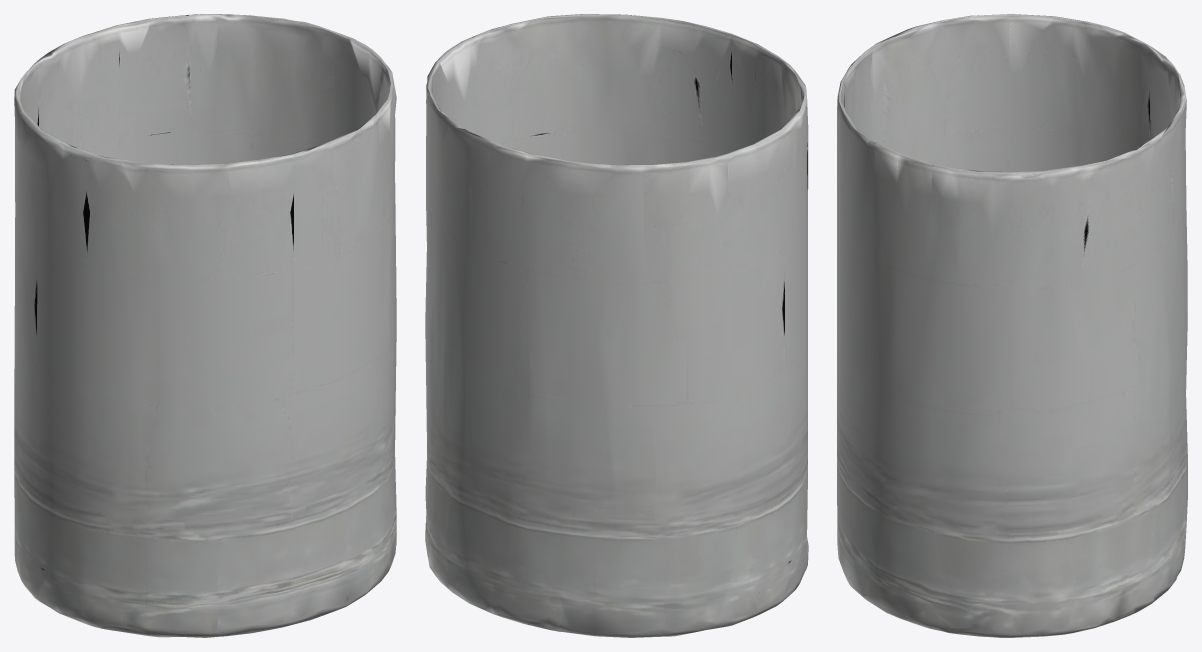
The model's file is mobile.glb.
3 renders of one model, left to right at view 1: azimuth 30°, elevation 25°; view 2: azimuth 150°, elevation 25°; view 3: azimuth 270°, elevation 25°, orthographic.
Parts seen in each view (by area): view 1: glass; view 2: glass; view 3: glass.
Part boxes in pixels (box(x1,y1,x2,y2)): glass: box(14, 14, 396, 637); glass: box(425, 14, 808, 637); glass: box(837, 14, 1187, 637).
Size of the model in its own units: 0.1037 by 0.14 by 0.0951.
1 material, 1 textured.
